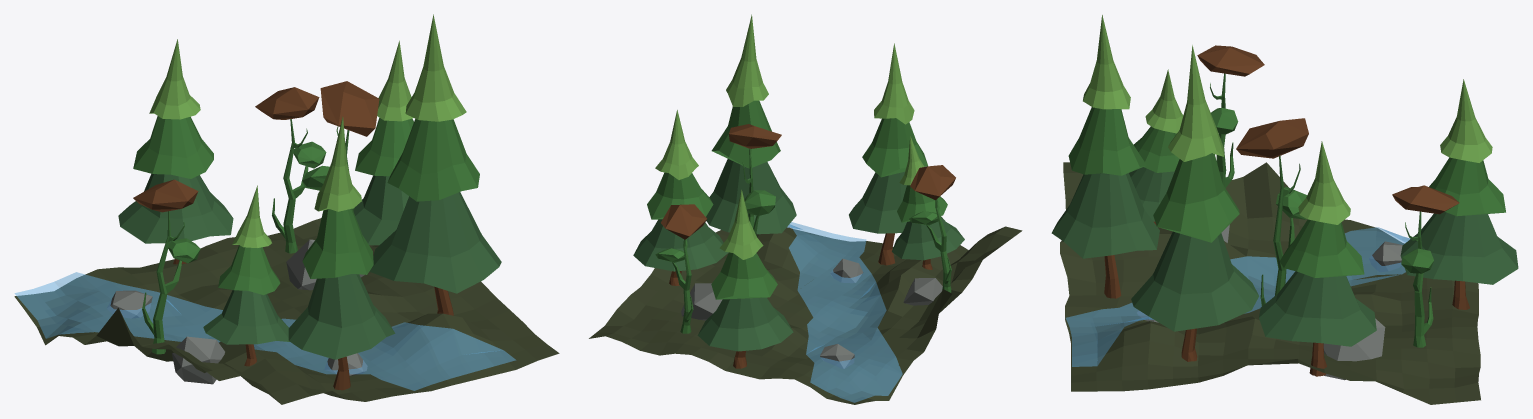
File: light_forest_env.fbx
The picture shows the model from 3 angles, left to right: view 1: azimuth 30°, elevation 25°; view 2: azimuth 150°, elevation 25°; view 3: azimuth 270°, elevation 25°; orthographic projection. The views are drawn at different scales.
Parts seen in each view (by area): view 1: Plane, Cone.002, Plane.001, Cone.003, Cone.004, Cone.001, Cone, Icosphere.003, Icosphere.002, Icosphere.001, Icosphere.004, Icosphere.005 (+2 smaller); view 2: Plane, Plane.001, Cone.004, Cone.002, Cone.003, Cone, Cone.001, Icosphere.002, Icosphere.003, Icosphere.001, Icosphere, Icosphere.004 (+2 smaller); view 3: Plane, Cone.002, Cone.003, Cone, Cone.004, Plane.001, Cone.001, Icosphere.001, Icosphere.002, Icosphere.003, Icosphere, Icosphere.005.
Boxes of the visible parts, x1,y1,x2,y2 form: Plane: (14,218,559,404); Cone.002: (369,14,501,315); Plane.001: (14,272,515,390); Cone.003: (288,116,395,390); Cone.004: (118,39,233,264); Cone.001: (203,185,289,366); Cone: (353,40,413,245); Icosphere.003: (133,179,200,354); Icosphere.002: (255,87,326,253); Icosphere.001: (302,81,379,211); Icosphere.004: (172,336,224,384); Icosphere.005: (107,290,152,318); Plane: (589,226,1022,404); Plane.001: (787,222,902,402); Cone.004: (697,190,793,368); Cone.002: (706,14,796,234); Cone.003: (849,43,927,265); Cone: (633,110,728,285); Cone.001: (892,136,964,269); Icosphere.002: (655,204,706,333); Icosphere.003: (909,165,955,292); Icosphere.001: (728,124,781,236); Icosphere: (681,283,722,320); Icosphere.004: (903,278,942,305); Plane: (1060,162,1480,404); Cone.002: (1131,45,1258,361); Cone.003: (1051,15,1159,298); Cone: (1259,141,1376,376); Cone.004: (1400,79,1518,309); Plane.001: (1066,227,1410,366); Cone.001: (1129,69,1183,224); Icosphere.001: (1236,118,1308,305); Icosphere.002: (1392,185,1459,347); Icosphere.003: (1197,45,1264,187); Icosphere: (1323,318,1385,380); Icosphere.005: (1369,241,1402,272).
Bounding box in the file's own units: 9101 × 8222 × 10094.
